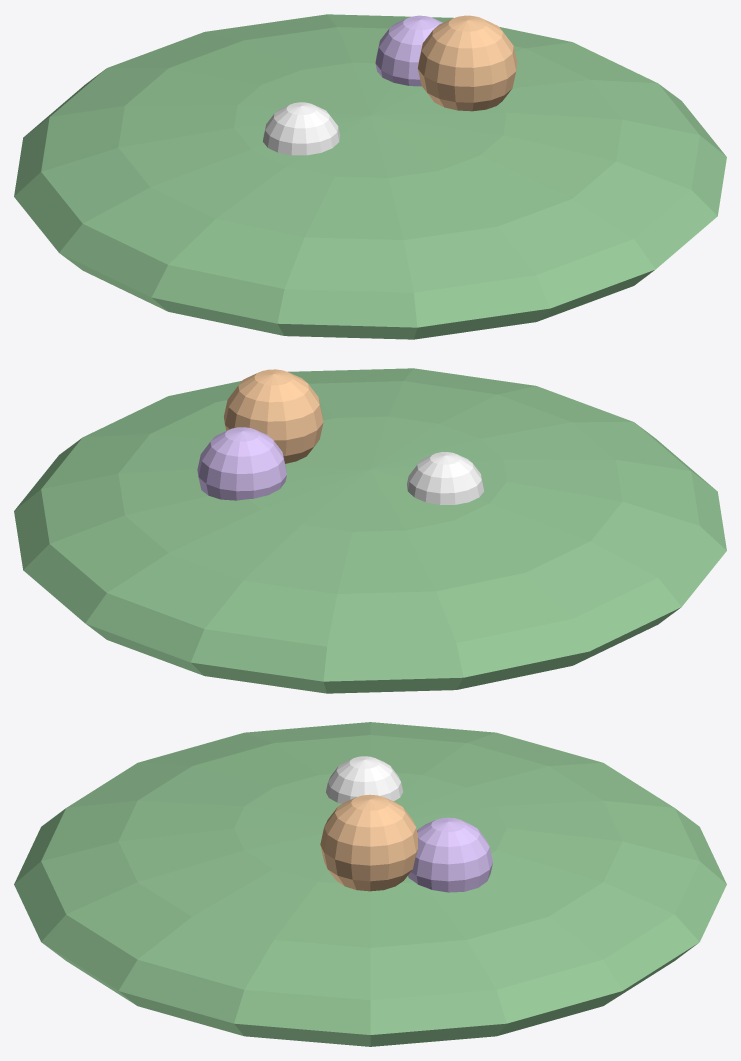
The model's file is FlowerPatch.glb.
3 renders of one model, top to bottom at view 1: azimuth 30°, elevation 25°; view 2: azimuth 150°, elevation 25°; view 3: azimuth 270°, elevation 25°, orthographic.
Visible parts, largest first — view 1: FlowerPatch_0, FlowerPatch_2, FlowerPatch_3, FlowerPatch_1; view 2: FlowerPatch_0, FlowerPatch_2, FlowerPatch_1, FlowerPatch_3; view 3: FlowerPatch_0, FlowerPatch_2, FlowerPatch_1, FlowerPatch_3.
Part boxes in pixels (x1,y1,x2,y2): FlowerPatch_0: (14, 14, 726, 339); FlowerPatch_2: (417, 15, 517, 111); FlowerPatch_3: (262, 102, 339, 155); FlowerPatch_1: (375, 15, 442, 86); FlowerPatch_0: (14, 368, 726, 693); FlowerPatch_2: (224, 369, 323, 463); FlowerPatch_1: (197, 427, 286, 500); FlowerPatch_3: (407, 452, 483, 504); FlowerPatch_0: (14, 722, 726, 1046); FlowerPatch_2: (320, 794, 418, 891); FlowerPatch_1: (408, 817, 492, 892); FlowerPatch_3: (326, 756, 403, 803).
Size of the model in its own units: 4.25 by 1.27 by 4.25.
